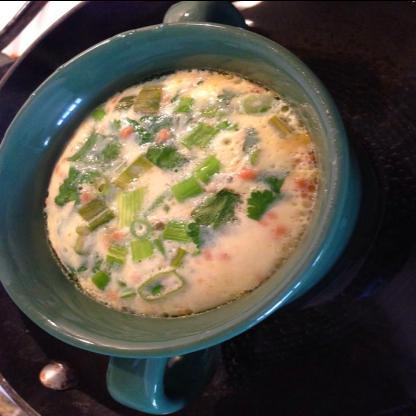Kaithoon: (20, 34, 348, 330)
